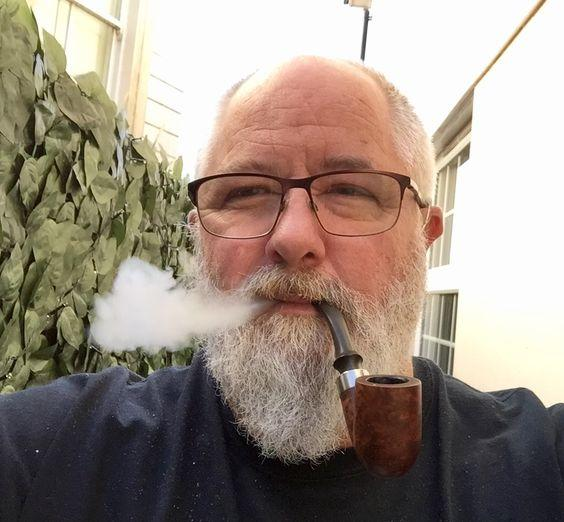trubka: (314, 302, 421, 473)
